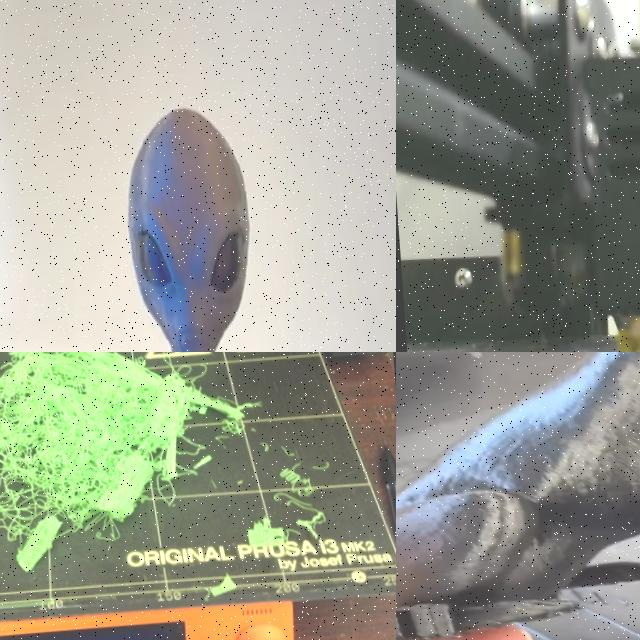spaghetti: (0, 352, 270, 543), (276, 454, 330, 498), (296, 512, 350, 546), (617, 318, 640, 352)
